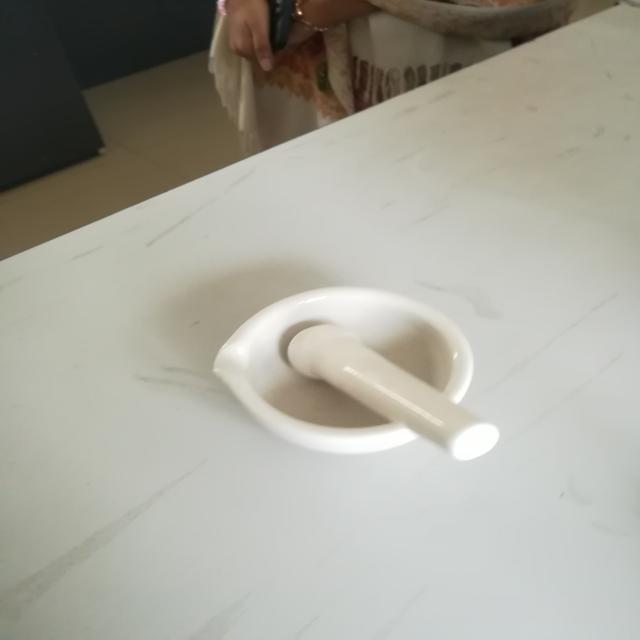Porcelain_Mortar Pestle: (147, 243, 519, 502)
